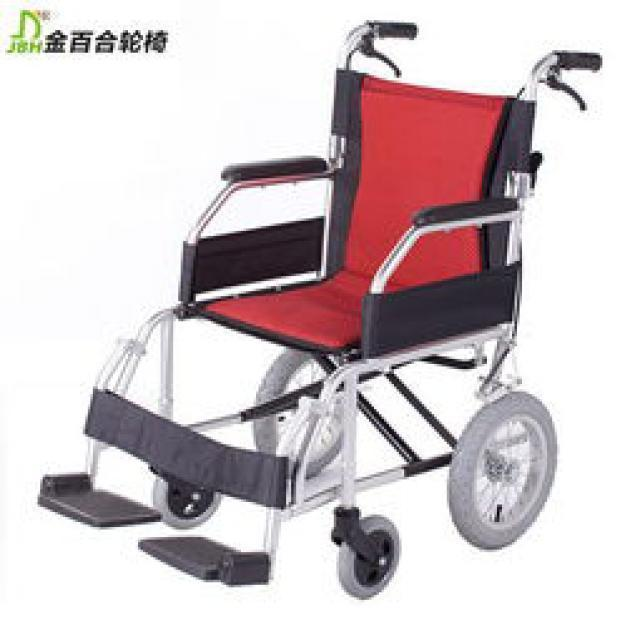wheelchairs: (43, 15, 576, 602)
